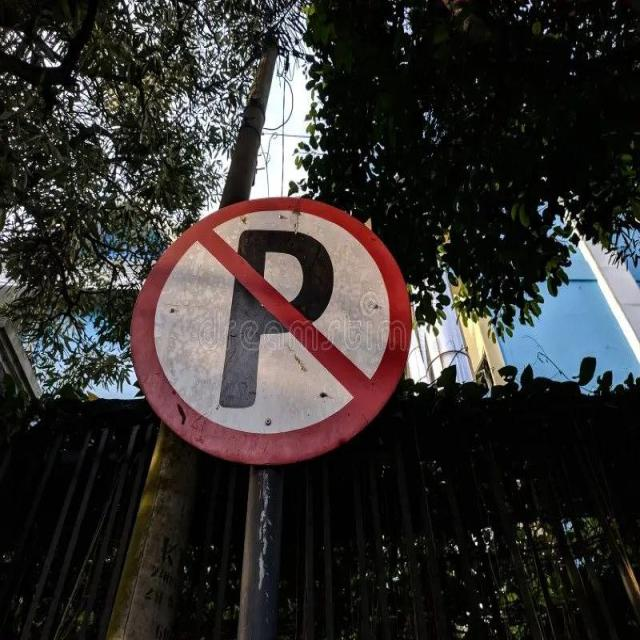No_parking: (131, 202, 409, 462)
